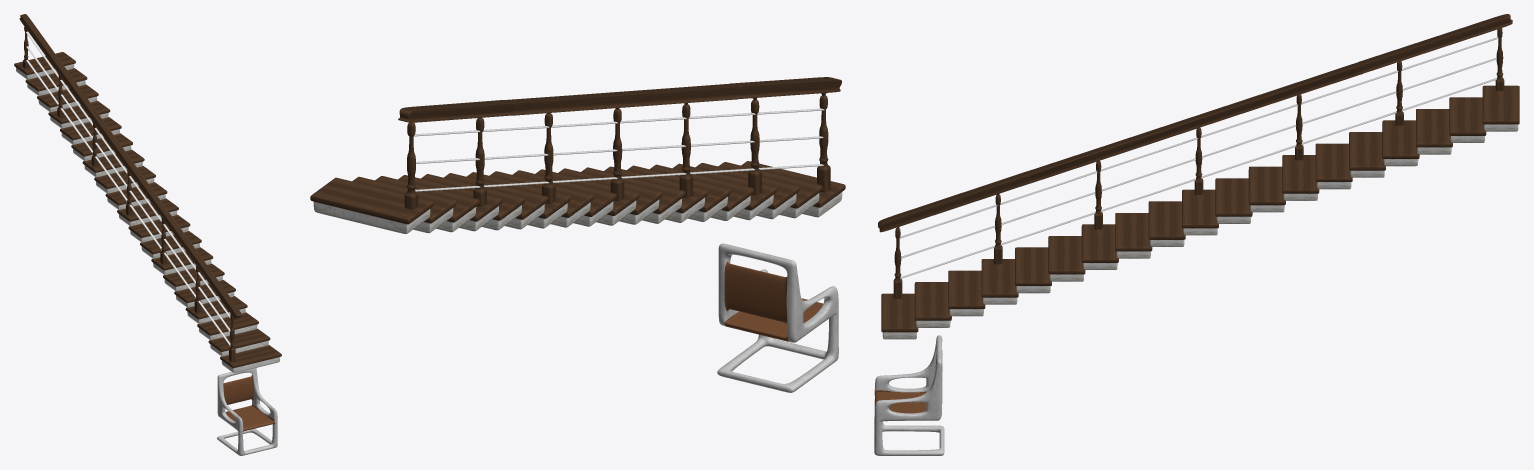
Rendered from Escalera y Silla.fbx.
3 renders of one model, left to right at view 1: azimuth 30°, elevation 25°; view 2: azimuth 150°, elevation 25°; view 3: azimuth 270°, elevation 25°, orthographic. The views are drawn at different scales.
Visible parts, largest first — view 1: EscaleraJunta, SillaJunta; view 2: EscaleraJunta, SillaJunta; view 3: EscaleraJunta, SillaJunta.
Part boxes in pixels (x1,y1,x2,y2): EscaleraJunta: (14, 14, 281, 372); SillaJunta: (217, 368, 277, 455); EscaleraJunta: (310, 77, 845, 233); SillaJunta: (717, 243, 838, 392); EscaleraJunta: (878, 14, 1519, 339); SillaJunta: (874, 335, 944, 455).
Bounding box in the file's own units: 519 × 2844 × 4018.
Materials: 5 (4 with a texture image).
